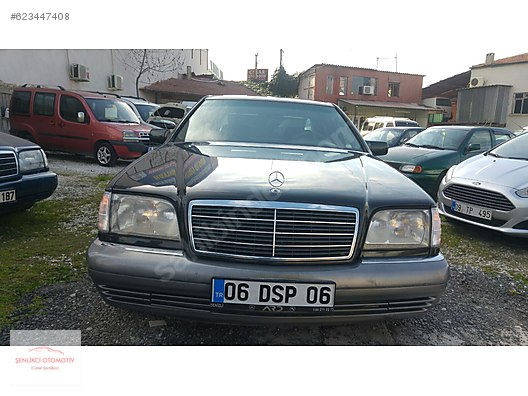m: (84, 92, 447, 331)
